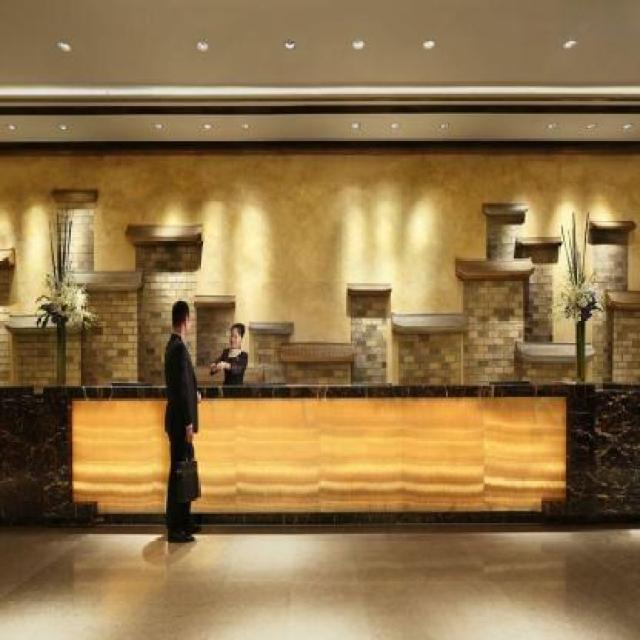frontdesk: (0, 355, 640, 543)
